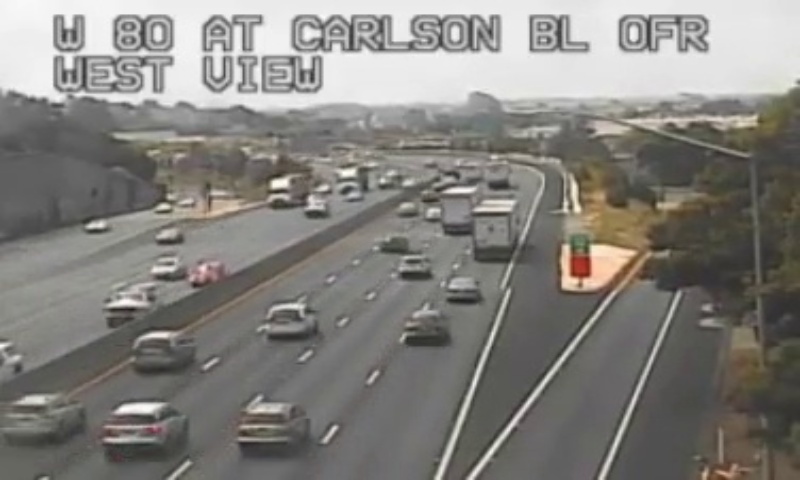car: (100, 400, 187, 452), (2, 393, 85, 440), (236, 402, 306, 443), (131, 330, 191, 368), (265, 303, 314, 337), (406, 310, 444, 341), (447, 276, 479, 301), (397, 256, 431, 276)
truck: (470, 198, 517, 259), (440, 184, 478, 232)
